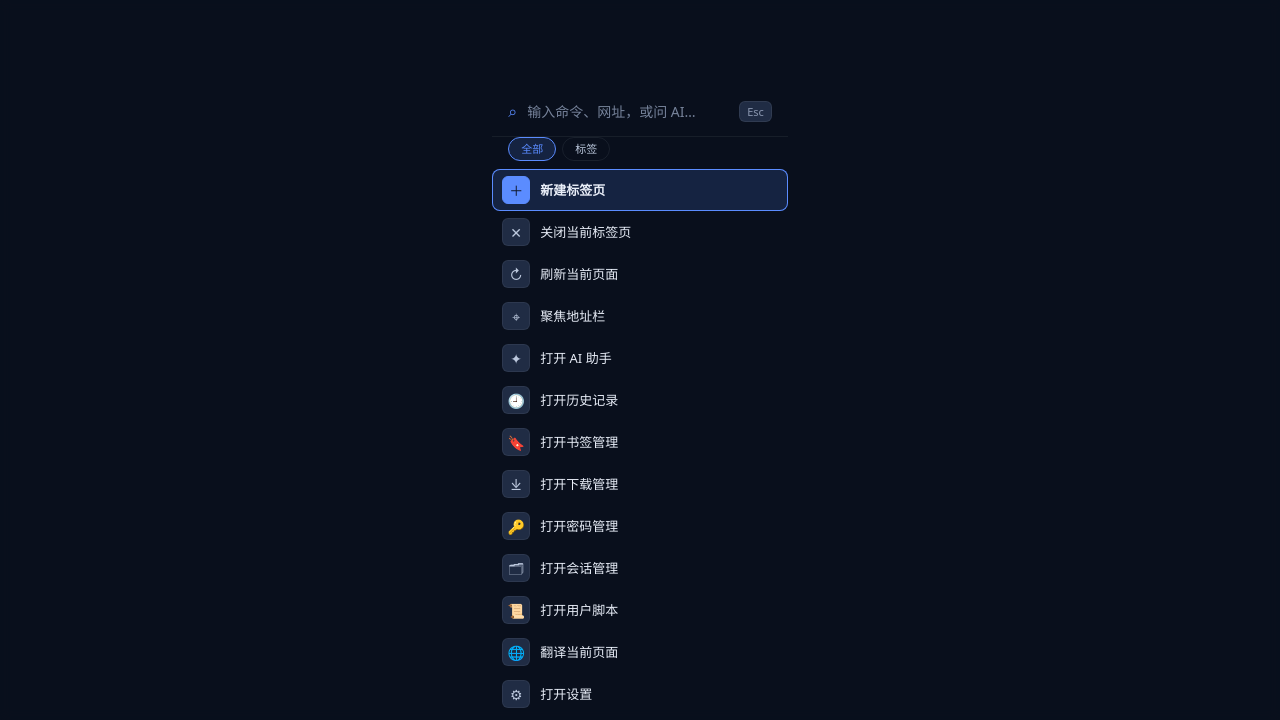
CommandPalette：基础渲染与交互 › 输入不匹配词 → 仅显示 AI 候选（无命令/标签/历史）
The width and height of the screenshot is (1280, 720).
Step 1. Type "zzz_nonexistent_xyz" into the dropdown with class "cp-input" → (628, 111), box [527,101,729,122]
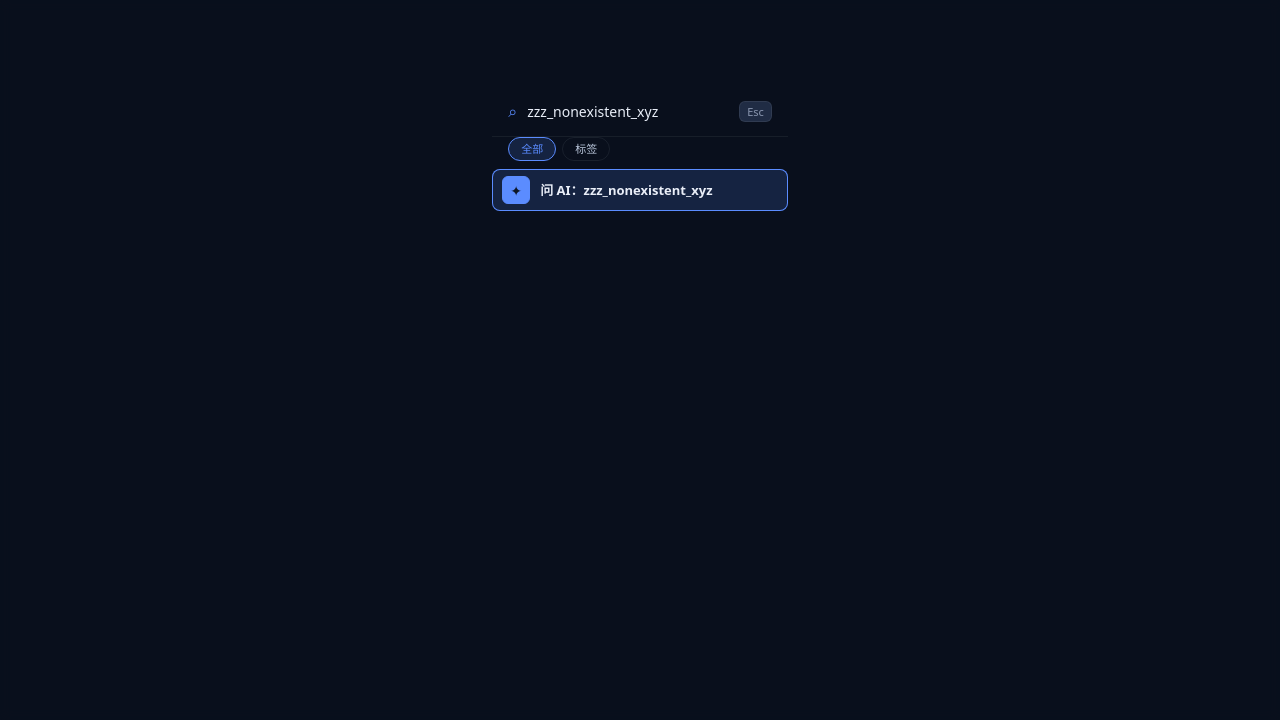
expect the option with class "cp-item" is shown: met, box [492,169,788,211]
expect the text with class "cp-title" shows "问 AI": met, box [540,181,713,199]
